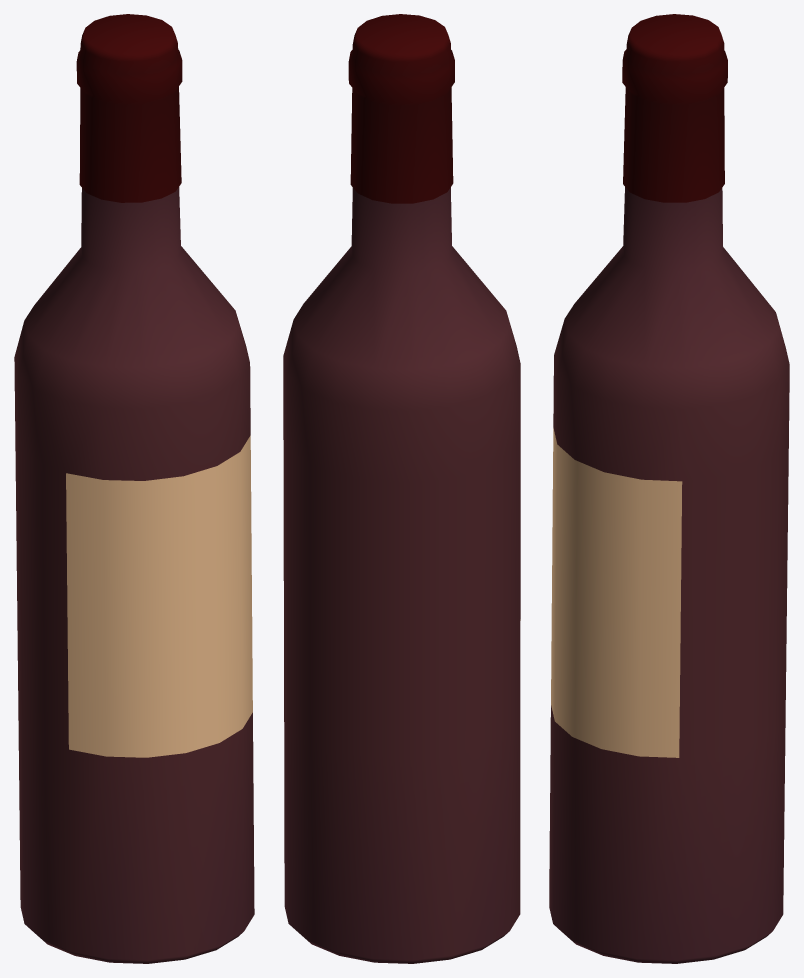
The model's file is WineBottle_Regular.fbx.
3 renders of one model, left to right at view 1: azimuth 30°, elevation 25°; view 2: azimuth 150°, elevation 25°; view 3: azimuth 270°, elevation 25°, orthographic.
Parts seen in each view (by area): view 1: WineBottle_Regular; view 2: WineBottle_Regular; view 3: WineBottle_Regular.
Boxes of the visible parts, x1,y1,x2,y2 form: WineBottle_Regular: (14, 14, 254, 963); WineBottle_Regular: (283, 14, 520, 963); WineBottle_Regular: (549, 14, 789, 963).
Bounding box in the file's own units: 34.33 × 141 × 34.79.
